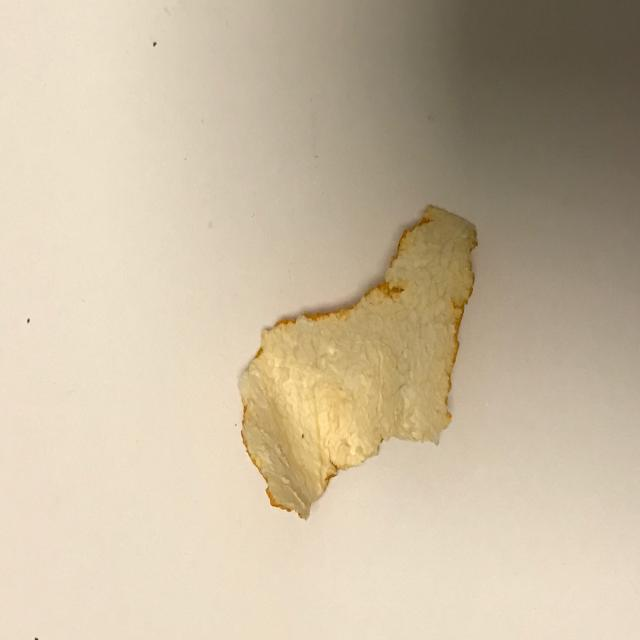trash: (238, 203, 479, 520)
